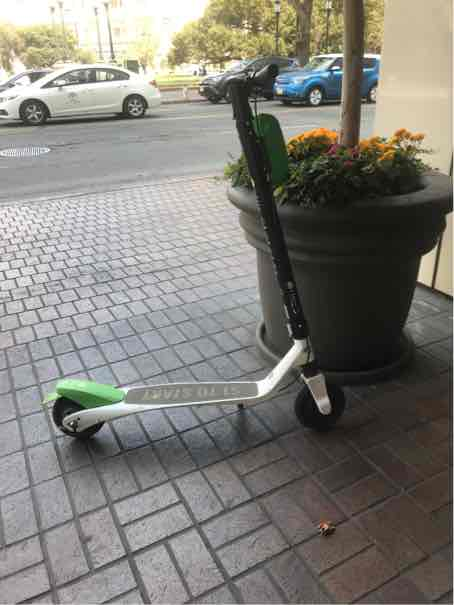scooter: (34, 63, 345, 434)
